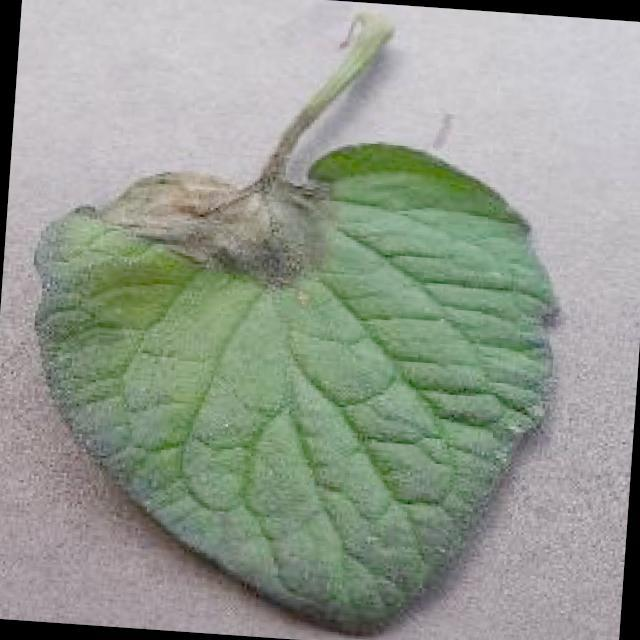Tomato late blight leaf: (3, 114, 575, 640)
